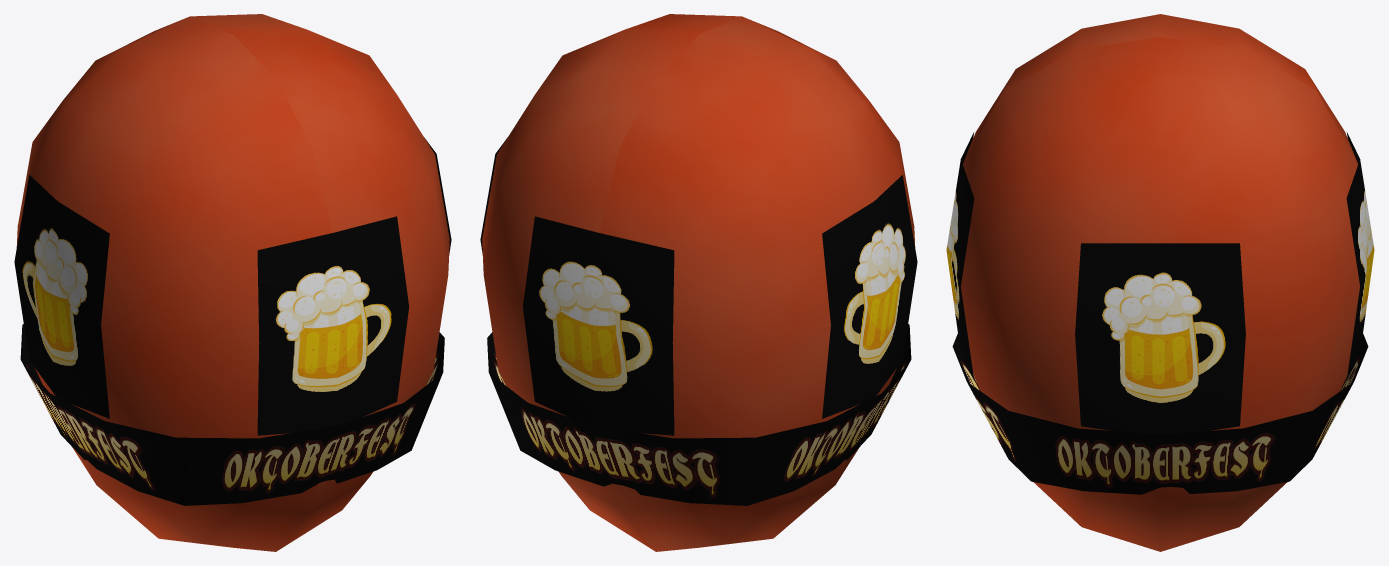
The model's file is Balloon_Interactible_Red_Art.fbx.
The picture shows the model from 3 angles, left to right: view 1: azimuth 30°, elevation 25°; view 2: azimuth 150°, elevation 25°; view 3: azimuth 270°, elevation 25°; orthographic projection.
Parts seen in each view (by area): view 1: Oktoberfest_Balloon_Interactible_Red; view 2: Oktoberfest_Balloon_Interactible_Red; view 3: Oktoberfest_Balloon_Interactible_Red.
Boxes of the visible parts, left/top/right/bottom form: Oktoberfest_Balloon_Interactible_Red: left=14, top=14, right=451, bottom=551; Oktoberfest_Balloon_Interactible_Red: left=480, top=14, right=917, bottom=551; Oktoberfest_Balloon_Interactible_Red: left=946, top=14, right=1374, bottom=551.
Size of the model in its own units: 73.93 by 96.46 by 73.93.
3 materials, 3 textured.
